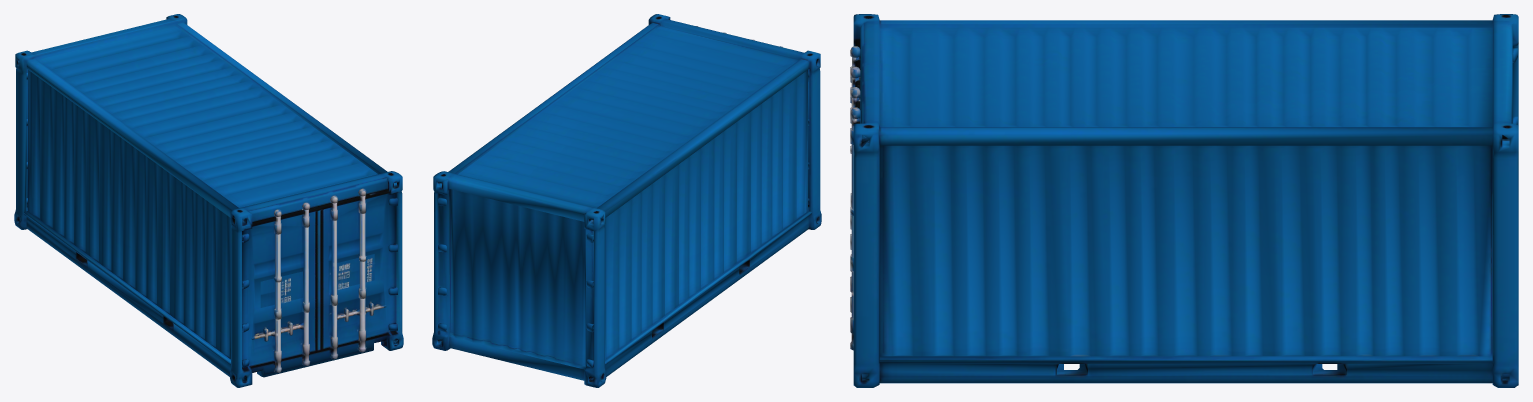
Rendered from blue_shipping_container_60b5ea93_v4.glb.
3 renders of one model, left to right at view 1: azimuth 30°, elevation 25°; view 2: azimuth 150°, elevation 25°; view 3: azimuth 270°, elevation 25°, orthographic. The views are drawn at different scales.
Parts seen in each view (by area): view 1: material; view 2: material; view 3: material.
Boxes of the visible parts, box(x1,y1,x2,y2) form: material: box(14, 14, 403, 387); material: box(432, 14, 821, 387); material: box(850, 14, 1518, 387).
Bounding box in the file's own units: 0.8104 × 0.8045 × 1.9.
1 material, 1 textured.
